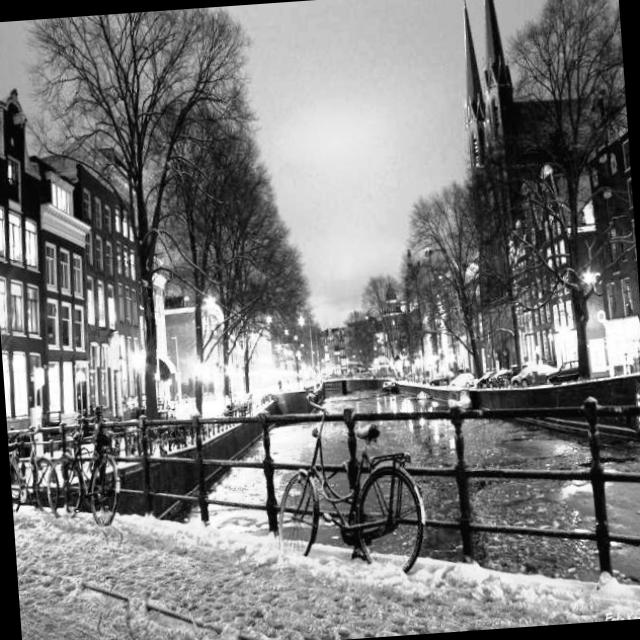Bicycle: (278, 393, 456, 605), (3, 374, 98, 535), (68, 382, 133, 542)
Tree: (94, 10, 190, 429), (519, 0, 622, 381)
